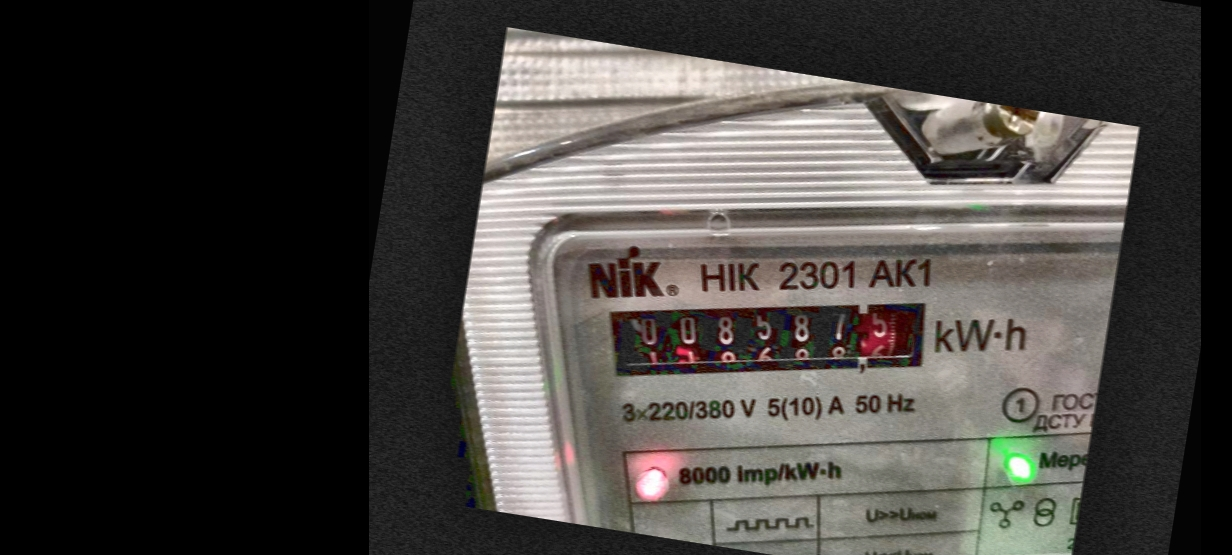0: (672, 309, 703, 347), (634, 311, 664, 347)
5: (750, 308, 777, 343), (866, 304, 892, 338)
6: (867, 340, 888, 359)
7: (825, 307, 852, 344)
8: (711, 311, 740, 347), (787, 308, 815, 344)
screen: (591, 252, 953, 427)
